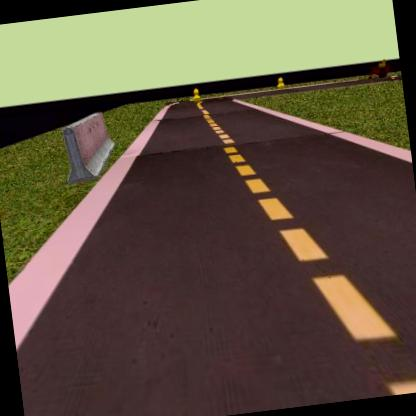Barrier: (57, 108, 120, 184)
Duckie: (274, 74, 286, 92), (190, 87, 202, 105), (376, 56, 387, 68)
DuckieBot: (362, 53, 396, 82)
